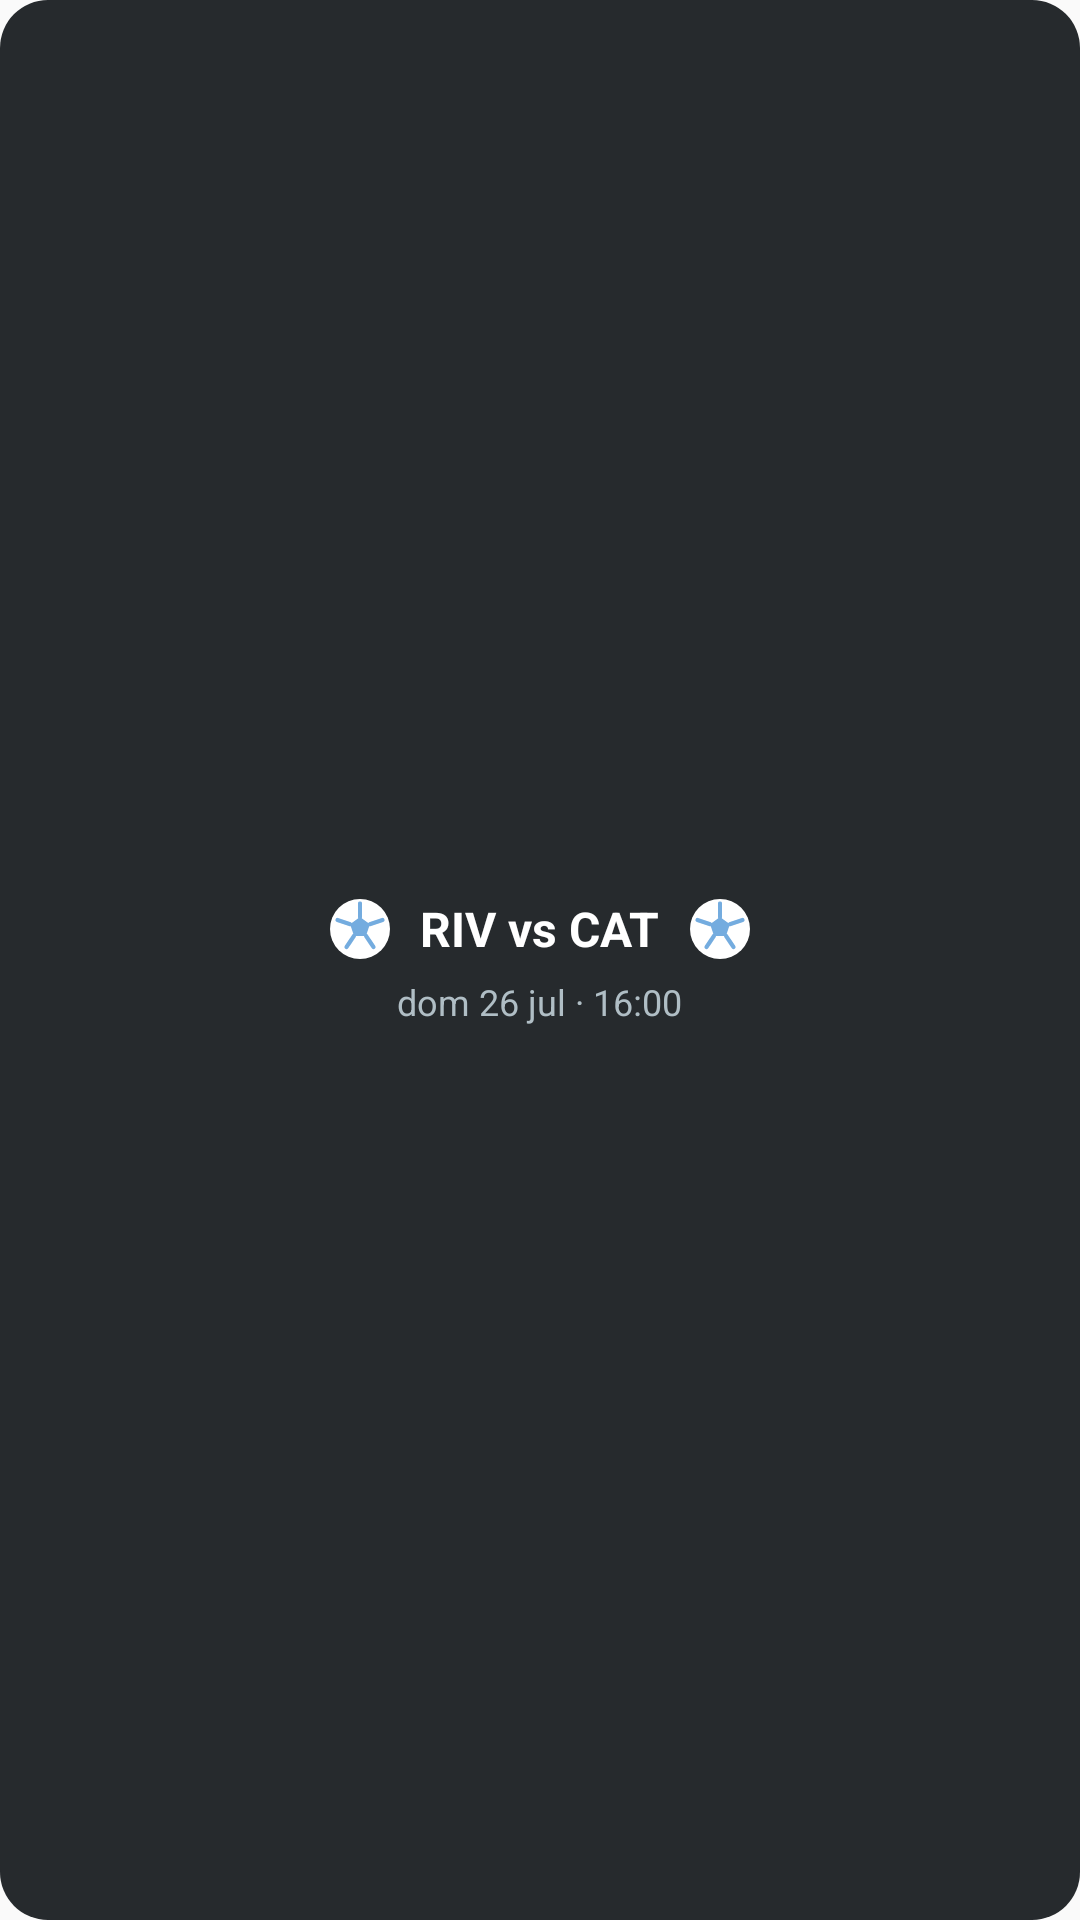

Icon bounding boxes for this 1080x1920 phone screenshot, format (x1, y1, x2, y2):
ball: (330, 899, 390, 959), (690, 899, 750, 959)
